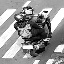motor: (14, 5, 52, 58)
